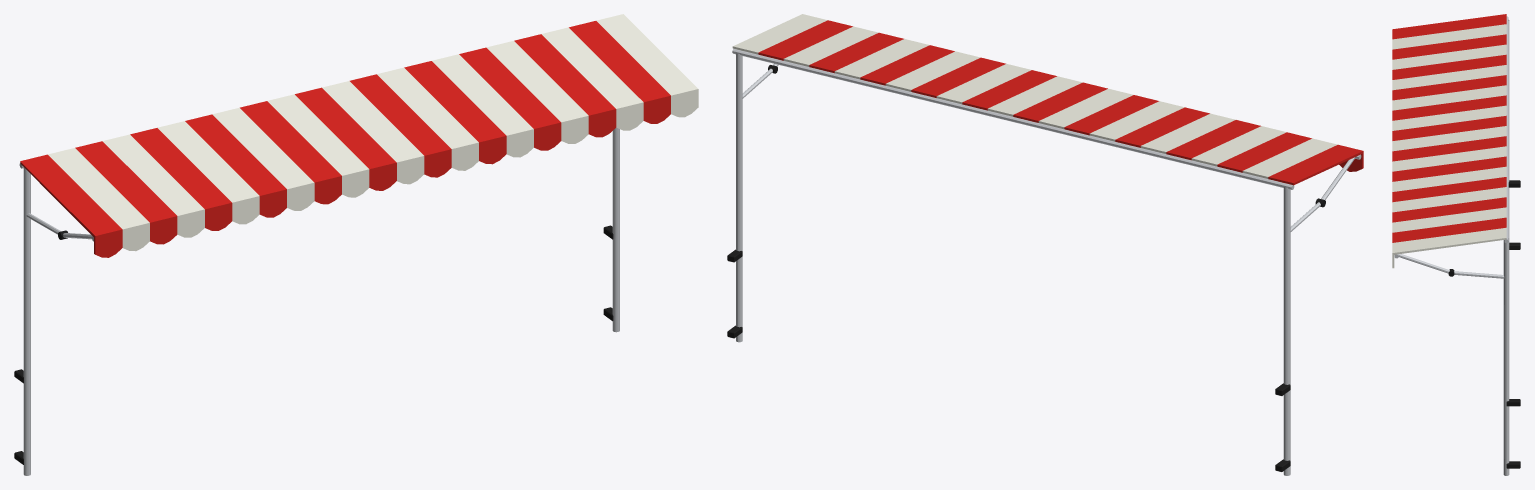
Rendered from toldo_rayado_grande.glb.
3 renders of one model, left to right at view 1: azimuth 30°, elevation 25°; view 2: azimuth 150°, elevation 25°; view 3: azimuth 270°, elevation 25°, orthographic. The views are drawn at different scales.
Parts seen in each view (by area): view 1: pieza_tramo, pieza_punta_izq, pieza_punta_der; view 2: pieza_tramo, pieza_punta_izq, pieza_punta_der; view 3: pieza_tramo, pieza_punta_der, pieza_punta_izq.
Boxes of the visible parts, <box> form: pieza_tramo: <box>75,27,643,244</box>; pieza_punta_izq: <box>14,148,149,475</box>; pieza_punta_der: <box>569,14,698,332</box>; pieza_tramo: <box>782,26,1311,177</box>; pieza_punta_izq: <box>1241,138,1363,475</box>; pieza_punta_der: <box>727,14,852,342</box>; pieza_tramo: <box>1392,34,1508,232</box>; pieza_punta_der: <box>1392,217,1520,475</box>; pieza_punta_izq: <box>1392,14,1520,249</box>.
Size of what is drawn, in the model's own units: 3.4 by 1.7 by 0.822.
